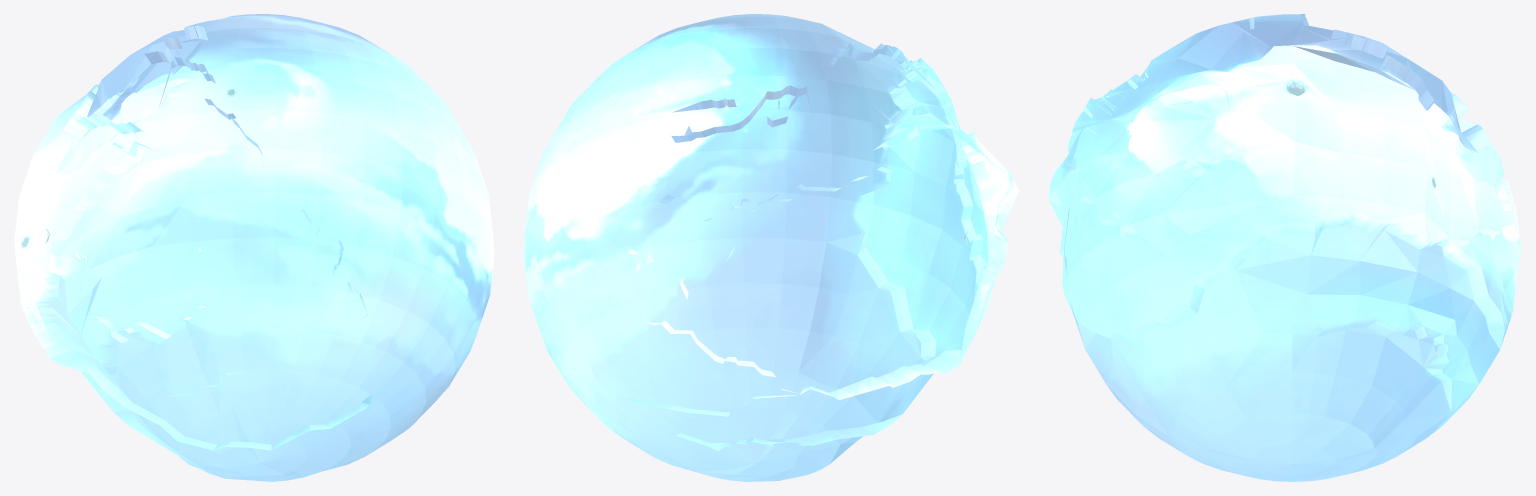
3 renders of one model, left to right at view 1: azimuth 30°, elevation 25°; view 2: azimuth 150°, elevation 25°; view 3: azimuth 270°, elevation 25°, orthographic. The views are drawn at different scales.
Visible parts, largest first — view 1: Object001_Material__25__background_JPG_002_0; view 2: Object001_Material__25__background_JPG_002_0; view 3: Object001_Material__25__background_JPG_002_0.
Boxes of the visible parts, x1,y1,x2,y2 form: Object001_Material__25__background_JPG_002_0: (14,14,494,481); Object001_Material__25__background_JPG_002_0: (523,14,1019,481); Object001_Material__25__background_JPG_002_0: (1048,14,1521,481).
Bounding box in the file's own units: 33.29 × 31.24 × 32.01.
